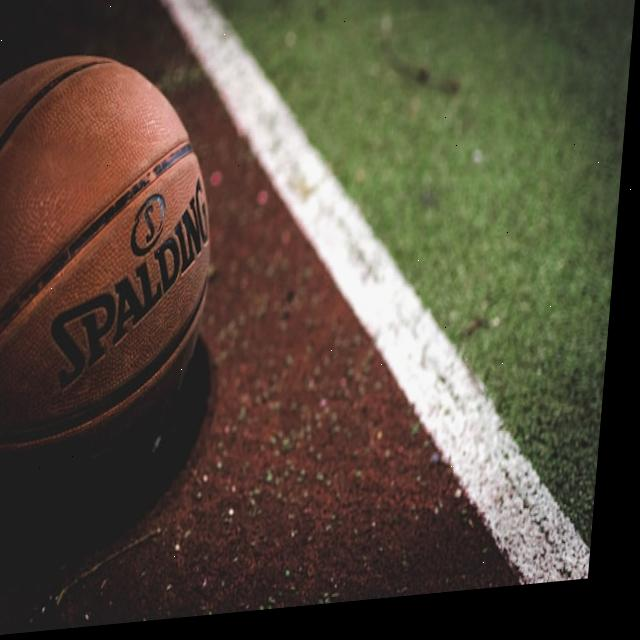Basketball: (0, 39, 228, 522)
